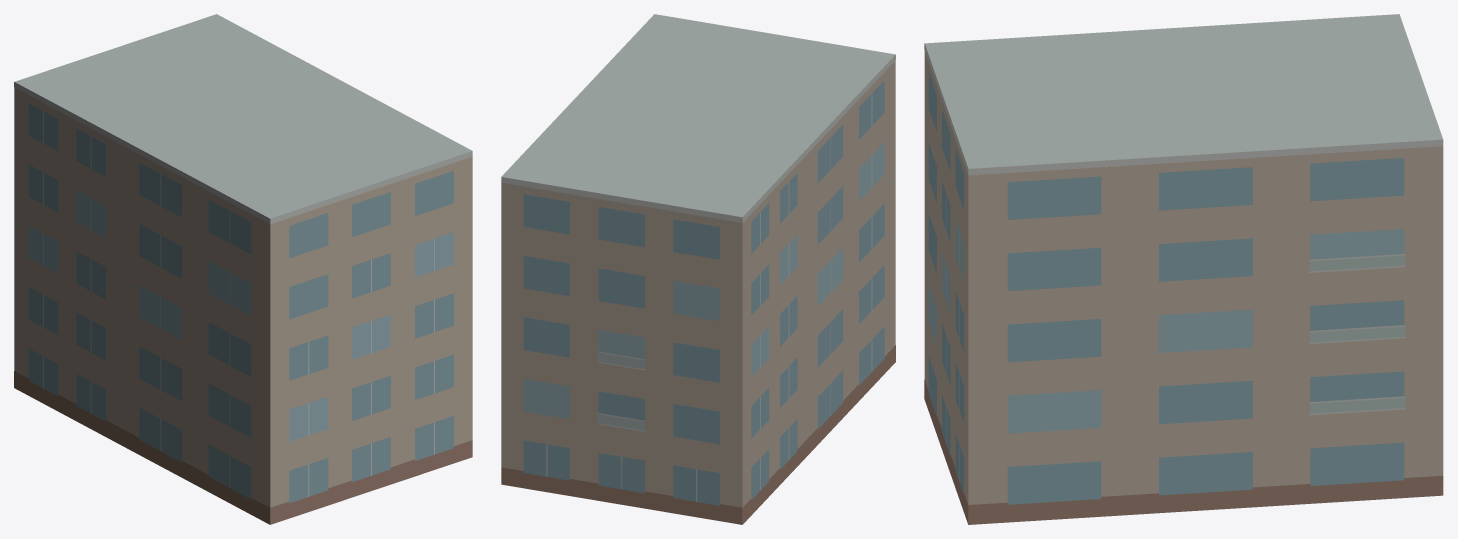
Rendered from survey-upis-32611702.glb.
3 views of the same model, side by side, from view 1: azimuth 30°, elevation 25°; view 2: azimuth 150°, elevation 25°; view 3: azimuth 270°, elevation 25° (orthographic). The views are drawn at different scales.
Parts seen in each view (by area): view 1: survey-upis-32611702.tmp; view 2: survey-upis-32611702.tmp; view 3: survey-upis-32611702.tmp.
Boxes of the visible parts, box(x1,y1,x2,y2) form: survey-upis-32611702.tmp: box(14, 14, 472, 524); survey-upis-32611702.tmp: box(501, 14, 895, 524); survey-upis-32611702.tmp: box(924, 14, 1443, 524).
Size of the model in its own units: 12.33 by 13.2 by 17.44.
